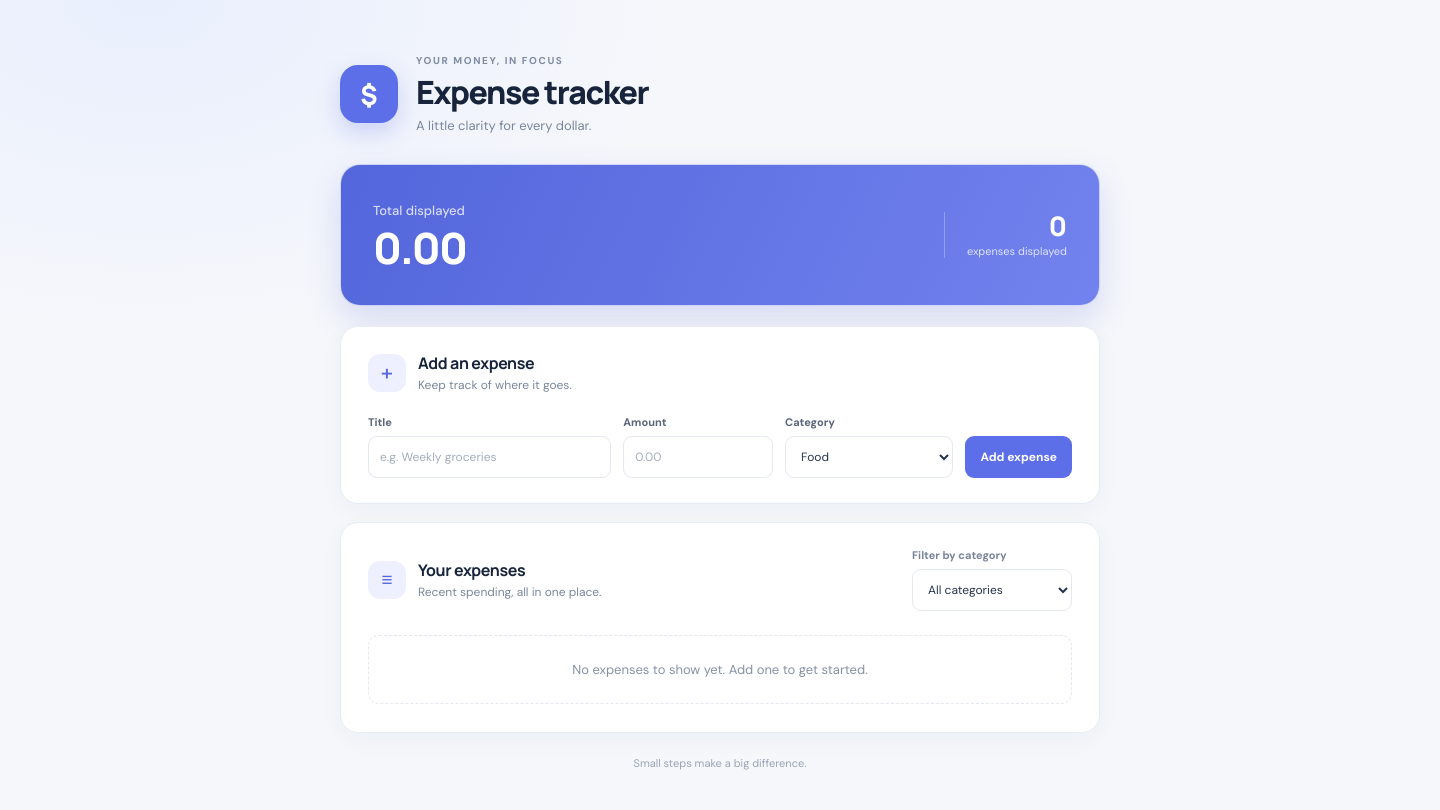
Scenario: expense tracker › rejects an empty title
Type "10" into the number field labelled "Amount" at (698, 457), box [623, 436, 773, 478]
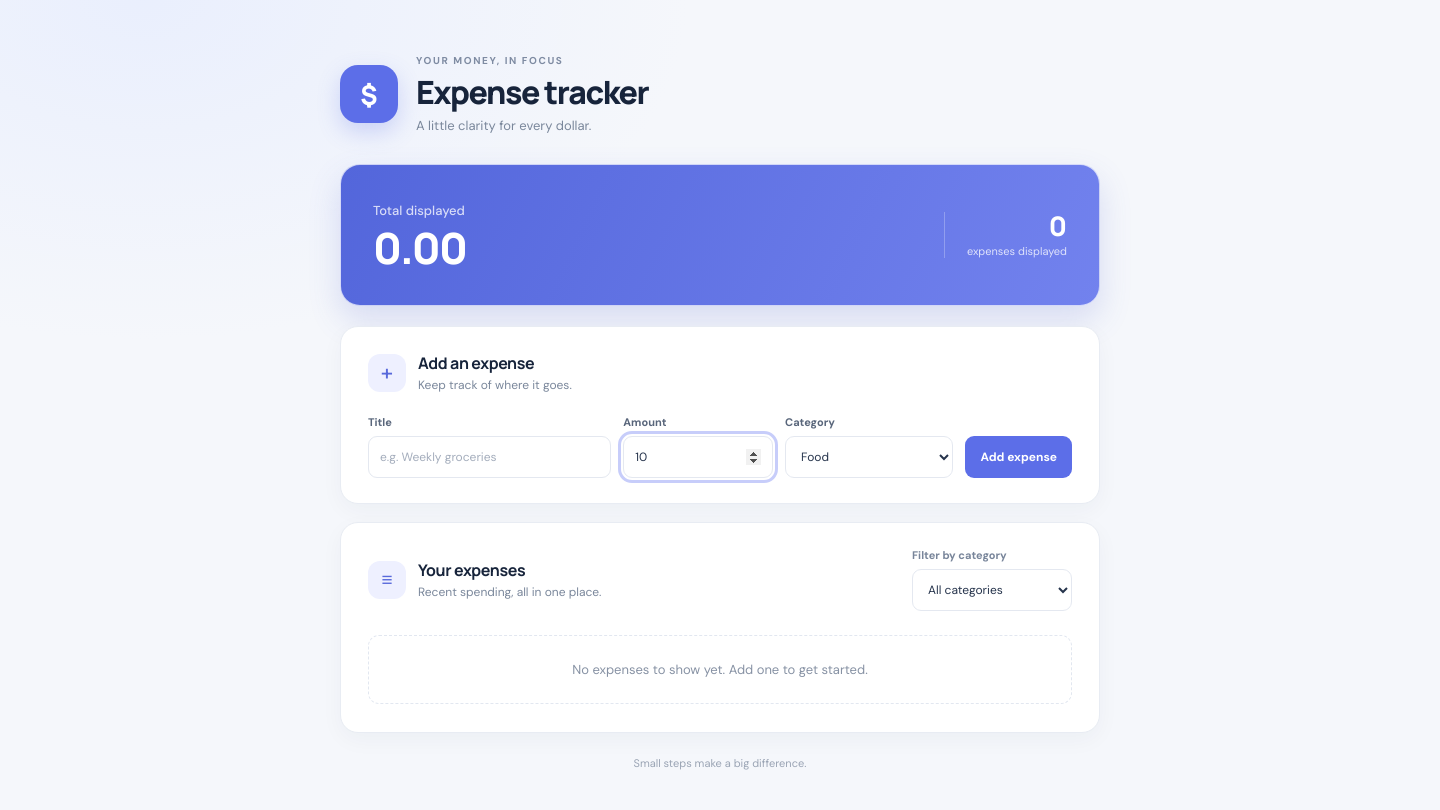
Click the button "Add expense" at (1019, 457), box [966, 436, 1072, 478]
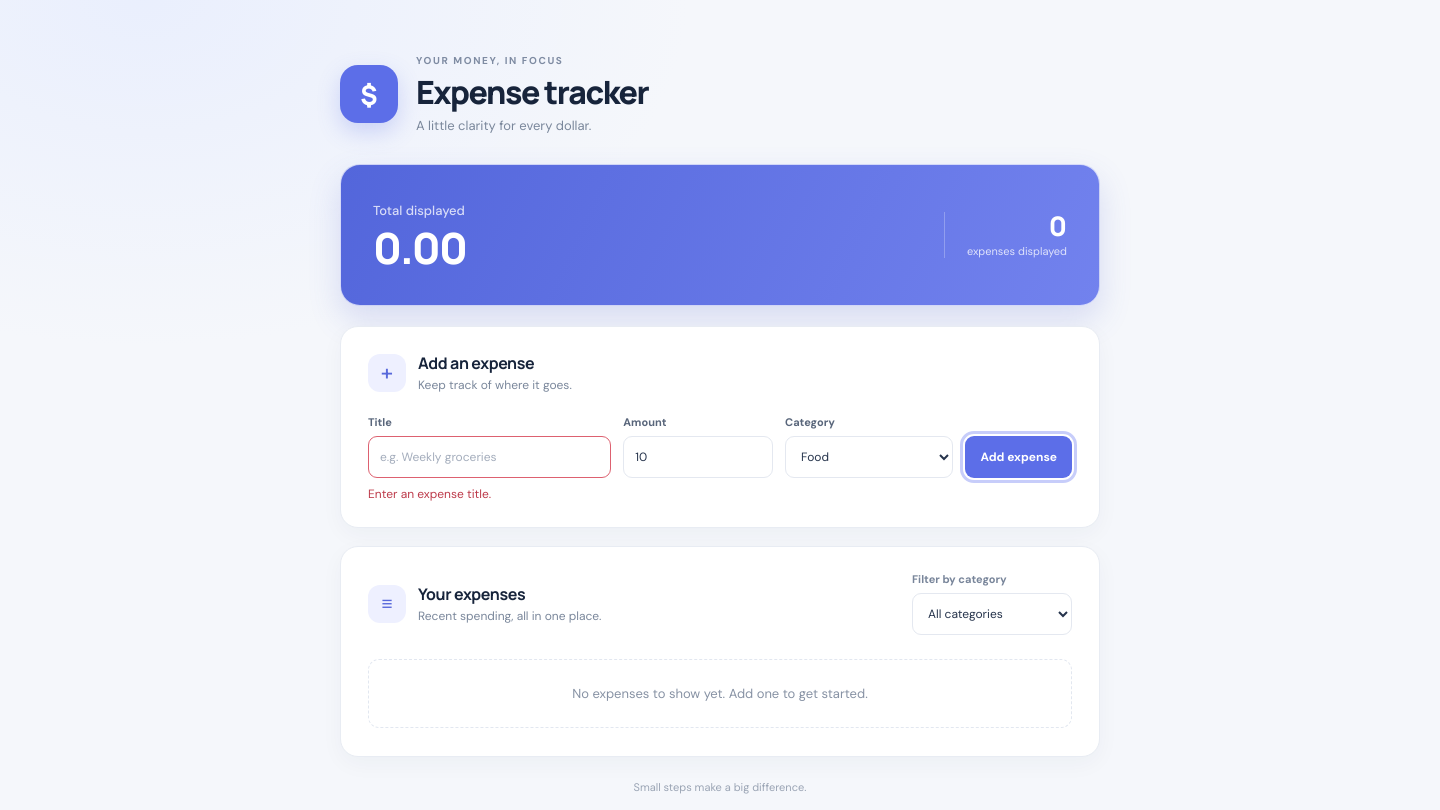
Result: the message reads "Enter an expense title." at [368, 486, 491, 502]
